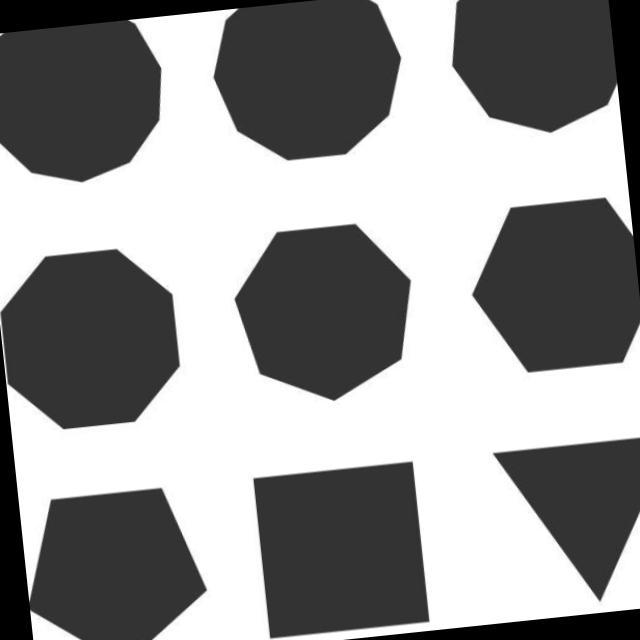square: (240, 456, 451, 640)
triangle: (483, 426, 640, 608)
